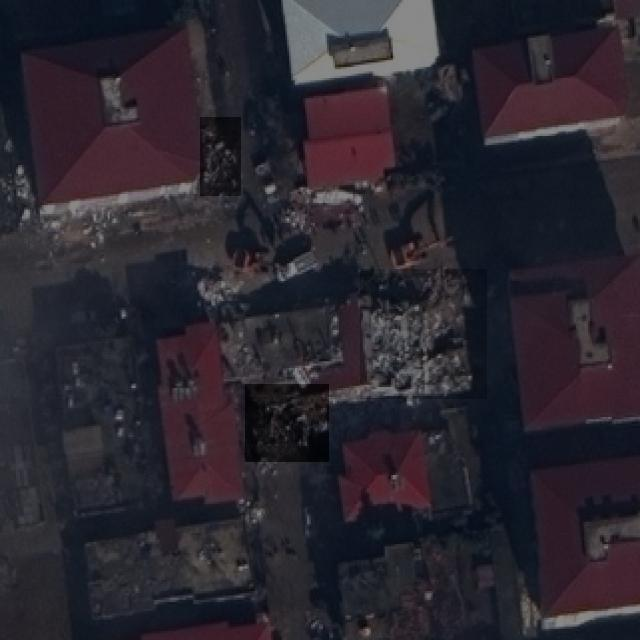Rubble: (360, 270, 487, 400), (245, 384, 329, 462), (200, 117, 241, 196)
